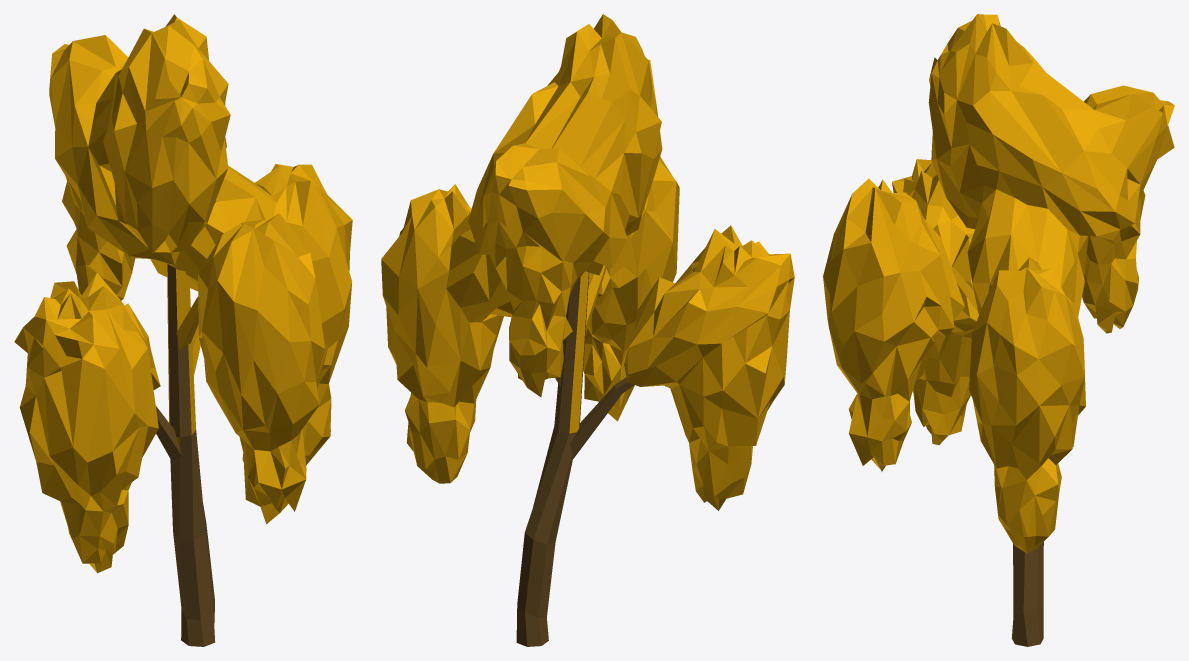
3 views of the same model, side by side, from view 1: azimuth 30°, elevation 25°; view 2: azimuth 150°, elevation 25°; view 3: azimuth 270°, elevation 25° (orthographic). The views are drawn at different scales.
Visible parts, largest first — view 1: _10_tree; view 2: _10_tree; view 3: _10_tree.
Part boxes in pixels (x1=…): _10_tree: x1=14, y1=14, x2=352, y2=646; _10_tree: x1=381, y1=14, x2=794, y2=646; _10_tree: x1=823, y1=14, x2=1174, y2=646.
Size of the model in its own units: 1.16 by 1.97 by 1.04.
